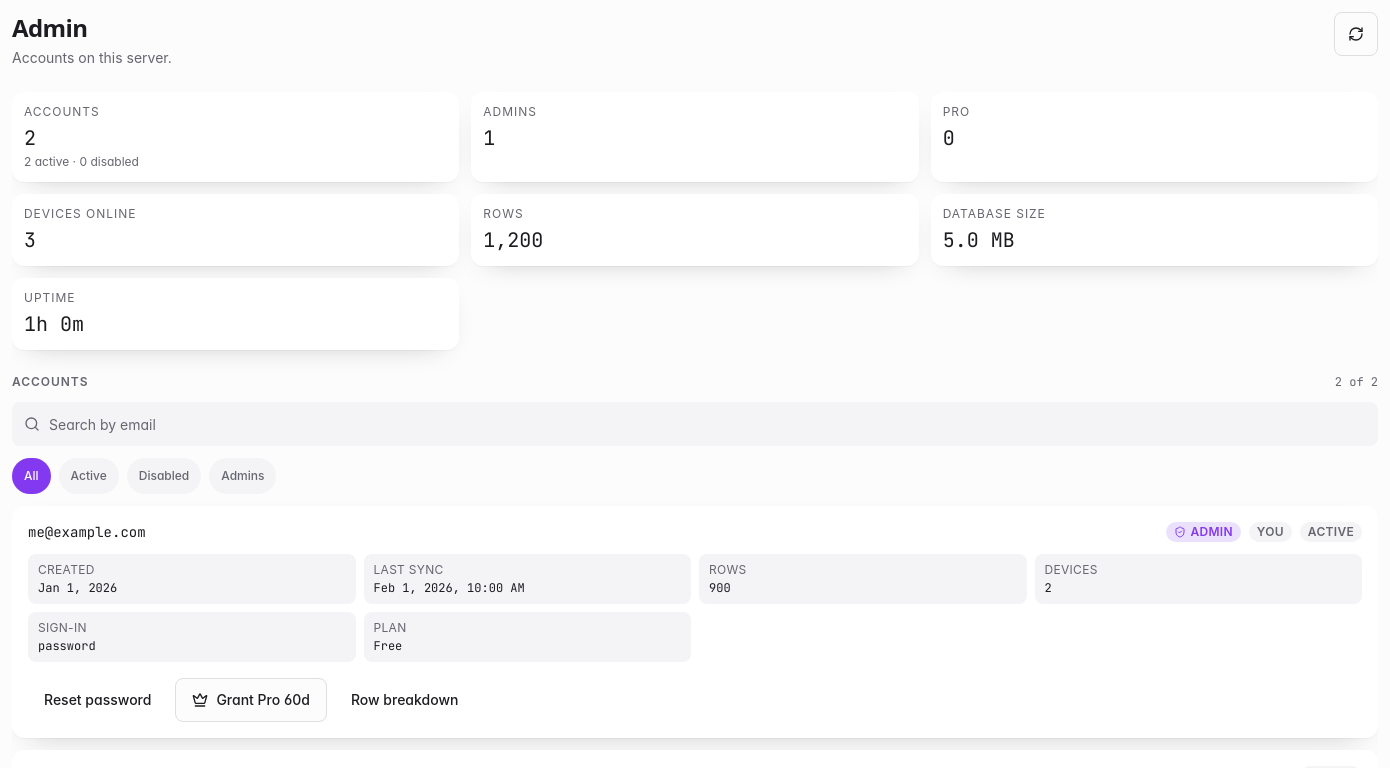
AdminPage — αναζήτηση & φίλτρα › δείχνει πόσα από πόσα και στενεύει με την αναζήτηση
This screenshot has width=1390, height=768.
Expected: the text "2 of 2" is shown, [1335,374,1378,390]
Type "proton" into the search field labelled "Search by email" at (695, 424), box [12,402,1378,446]
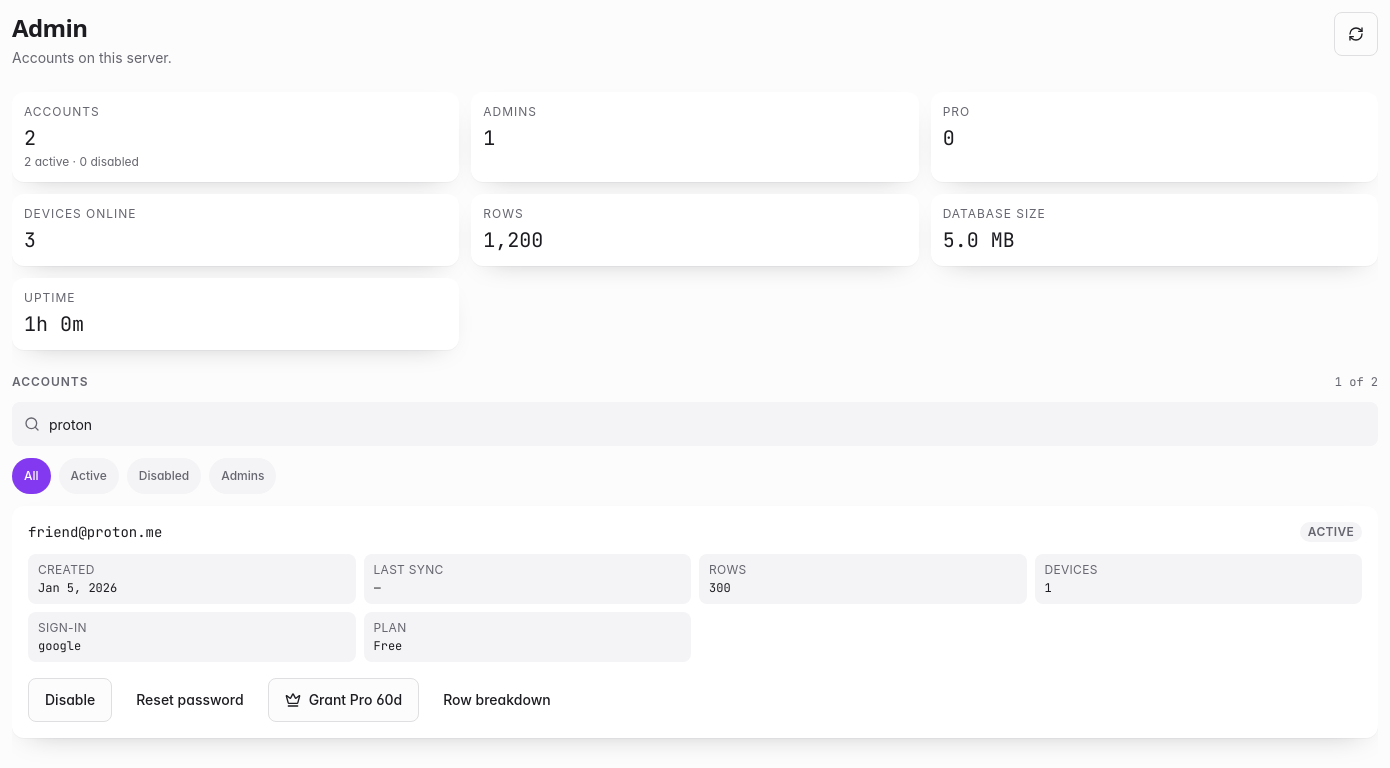
Now the text "1 of 2" is shown, box [1335,374,1378,390]
Now the text "me@example.com" is gone
